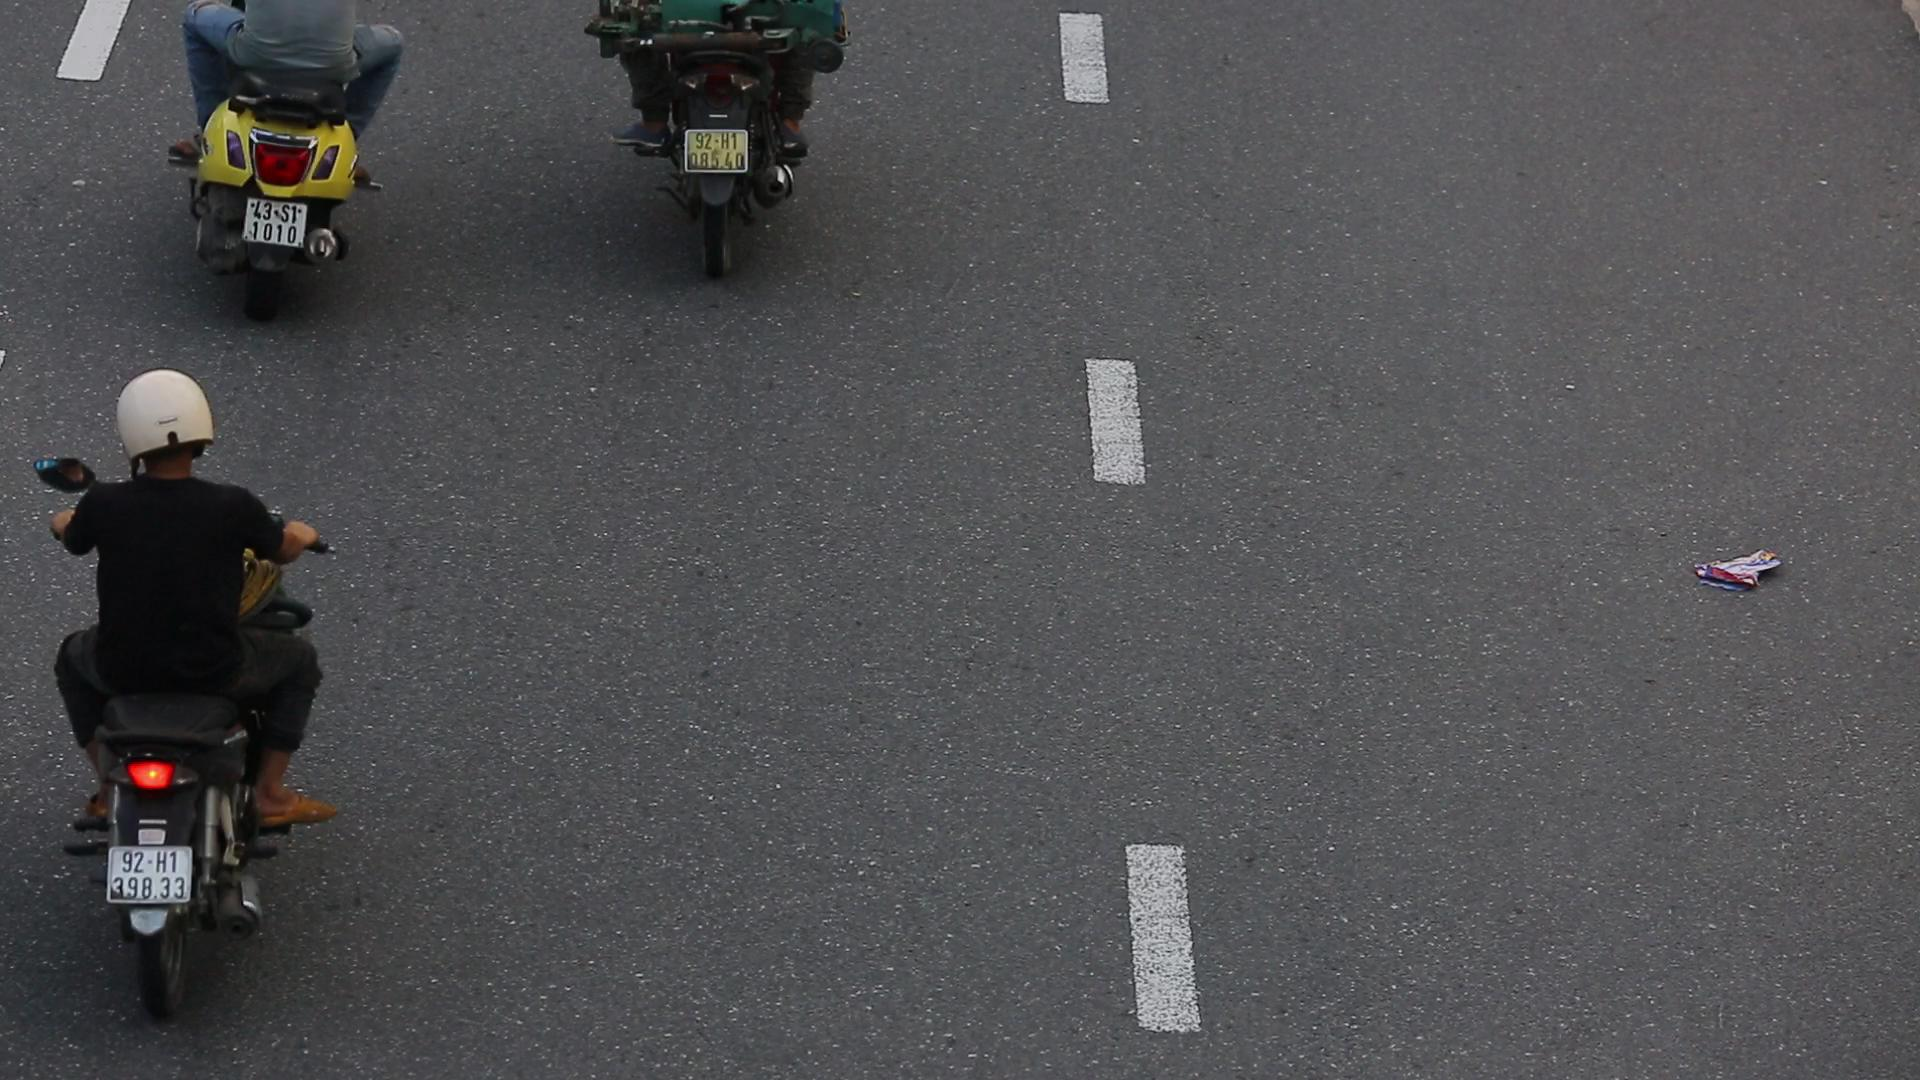motobike: (4, 335, 357, 1039)
